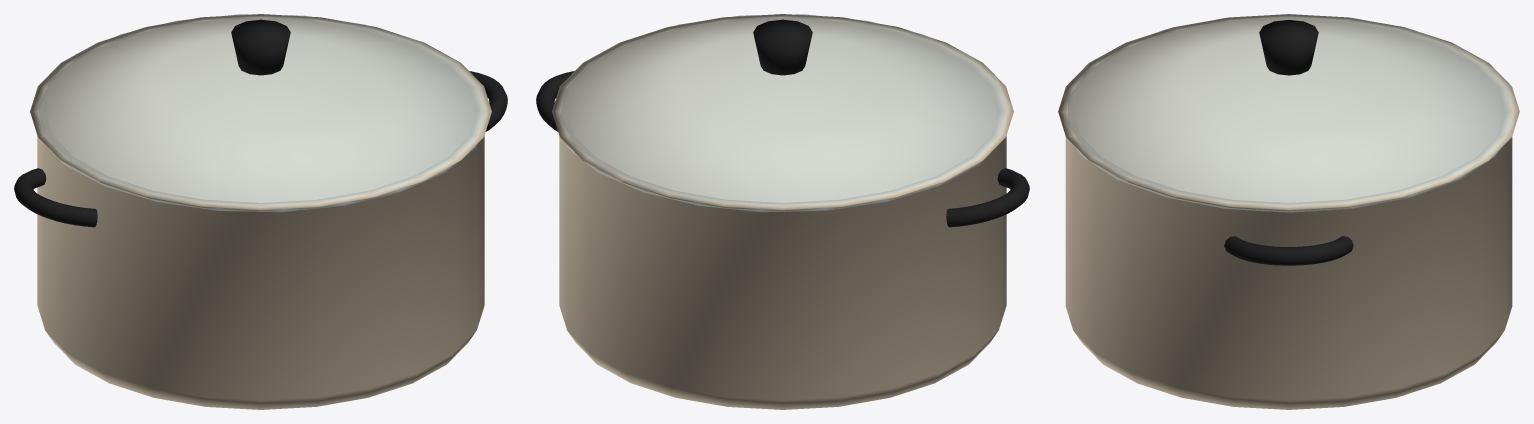
File: i_pot_9.glb
The picture shows the model from 3 angles, left to right: view 1: azimuth 30°, elevation 25°; view 2: azimuth 150°, elevation 25°; view 3: azimuth 270°, elevation 25°; orthographic projection.
Visible parts, largest first — view 1: o, o.003, o.004, o.001, o.002; view 2: o, o.003, o.004, o.001, o.002; view 3: o, o.003, o.004, o.002.
Part boxes in pixels (x1,y1,x2,y2): o: (30, 14, 491, 409); o.003: (34, 14, 487, 212); o.004: (231, 19, 290, 75); o.001: (14, 168, 97, 227); o.002: (469, 71, 507, 131); o: (552, 14, 1013, 409); o.003: (556, 14, 1009, 212); o.004: (753, 19, 812, 75); o.001: (946, 168, 1029, 227); o.002: (536, 71, 574, 131); o: (1058, 14, 1519, 409); o.003: (1064, 14, 1513, 212); o.004: (1259, 20, 1318, 75); o.002: (1224, 236, 1353, 265).
Bounding box in the file's own units: 0.2948 × 0.172 × 0.248.
